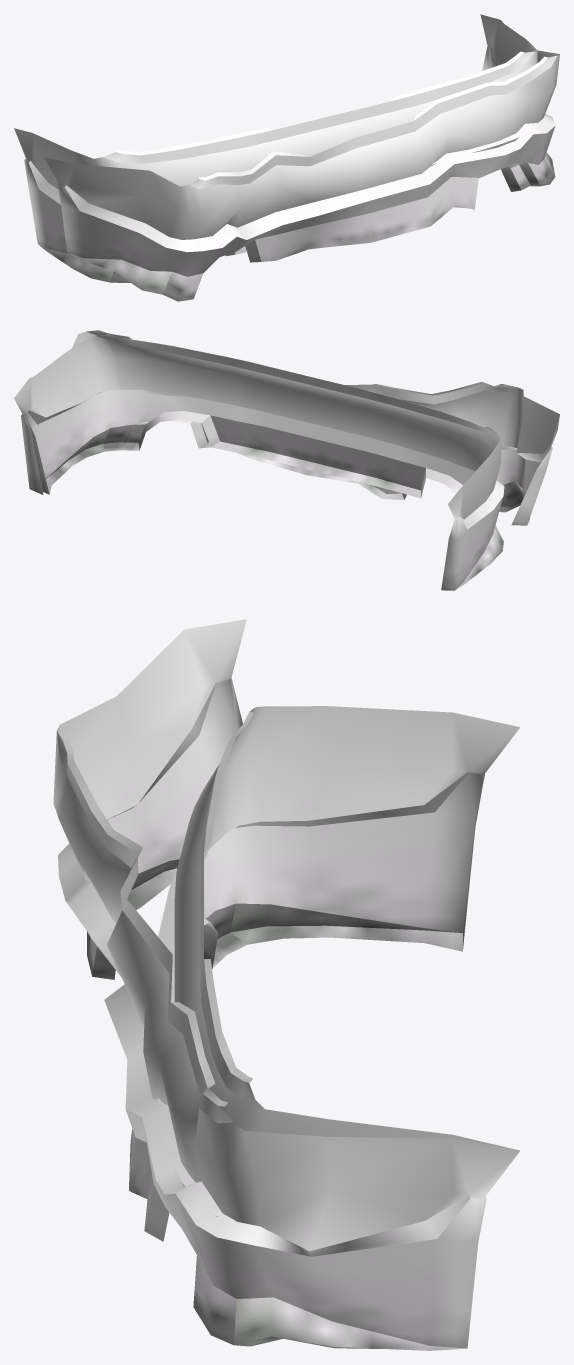
File: rbmp_a_j.glb
The picture shows the model from 3 angles, top to bottom: view 1: azimuth 30°, elevation 25°; view 2: azimuth 150°, elevation 25°; view 3: azimuth 270°, elevation 25°; orthographic projection. The views are drawn at different scales.
Visible parts, largest first — view 1: rbmp_a_j_dam, rbmp_a_j; view 2: rbmp_a_j, rbmp_a_j_dam; view 3: rbmp_a_j_dam, rbmp_a_j.
Boxes of the visible parts, bbox=[...] form: rbmp_a_j_dam: bbox=[43, 15, 559, 301]; rbmp_a_j: bbox=[14, 14, 540, 282]; rbmp_a_j: bbox=[14, 334, 504, 590]; rbmp_a_j_dam: bbox=[14, 330, 559, 525]; rbmp_a_j_dam: bbox=[53, 619, 519, 1350]; rbmp_a_j: bbox=[157, 706, 520, 1216].
Bounding box in the file's own units: 2.39 × 0.6581 × 1.01.
1 material, 1 textured.
